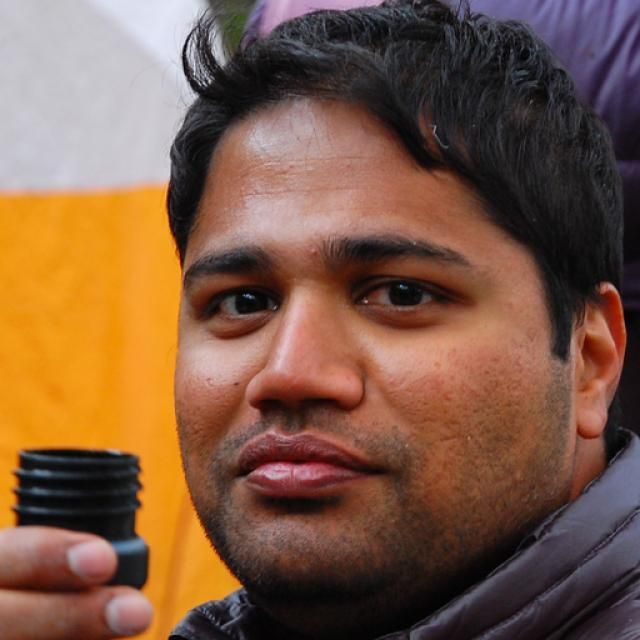content: (172, 89, 558, 600)
